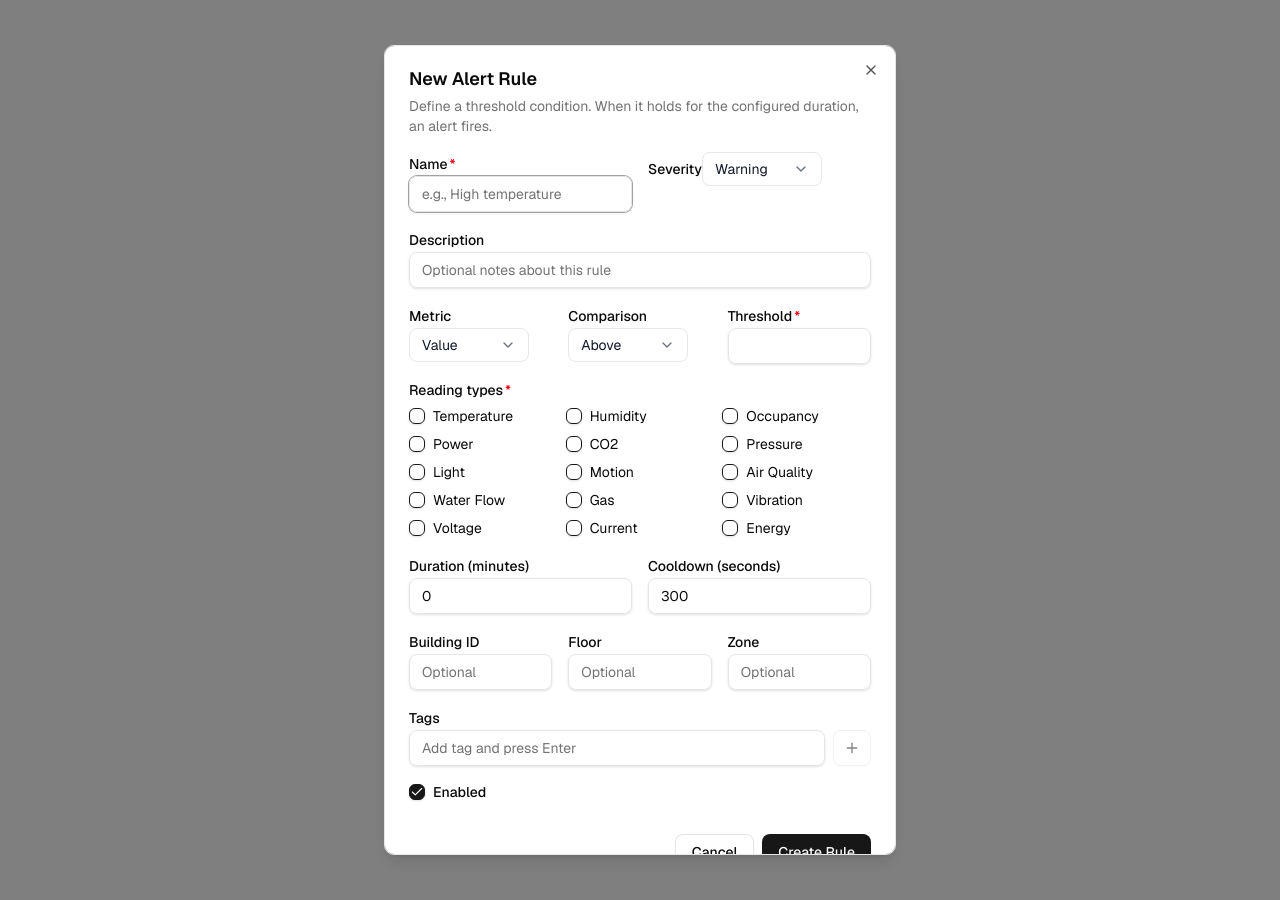
Scenario: CreateAlertRuleModal › should reject an anomaly_score threshold above 1
In the field labelled "Name*": {"x": 520, "y": 194} [409, 176, 632, 212], type "Bad anomaly rule"
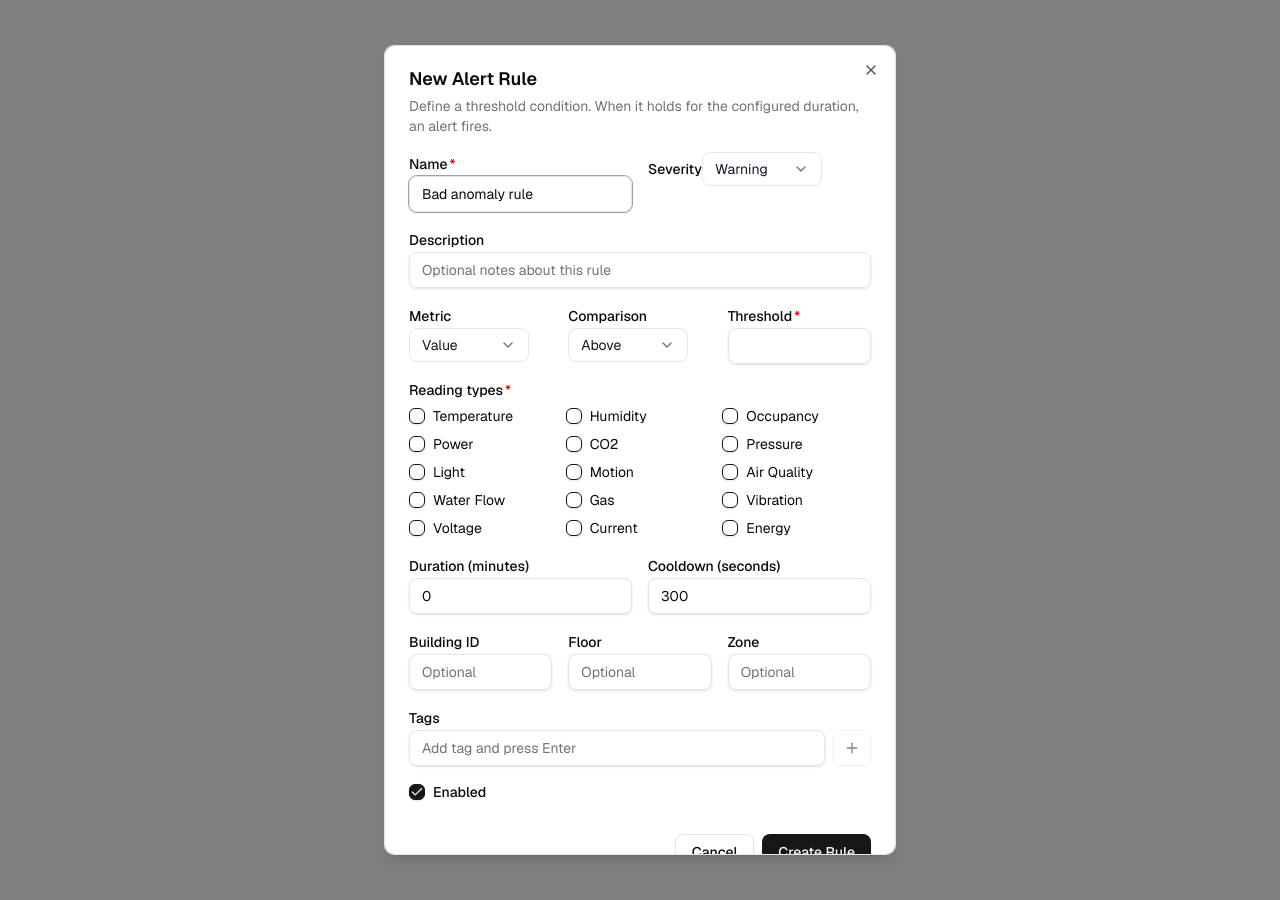
Click the button named "metric": {"x": 469, "y": 345} [409, 328, 529, 362]
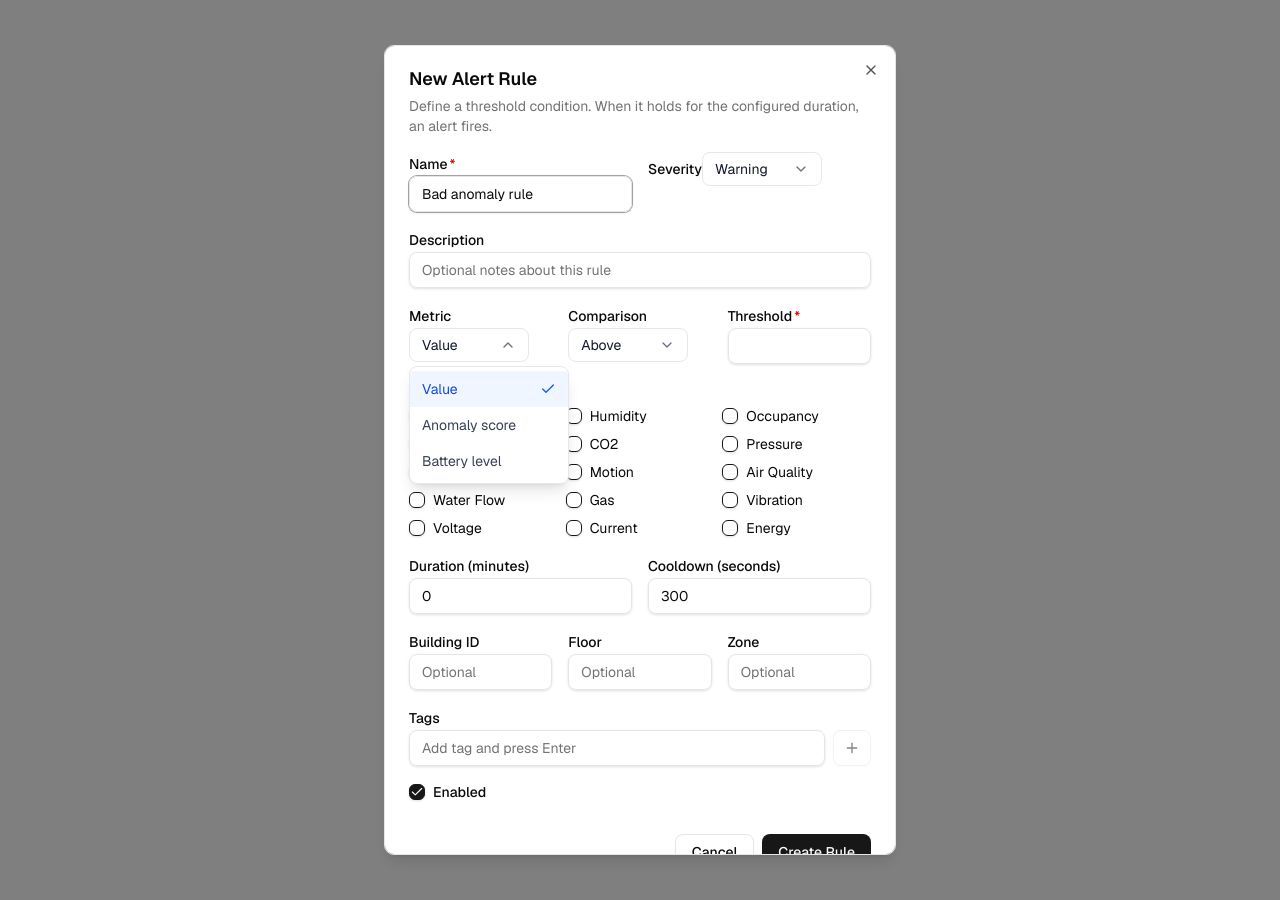
Click the option "Anomaly score": {"x": 489, "y": 425} [410, 407, 568, 443]
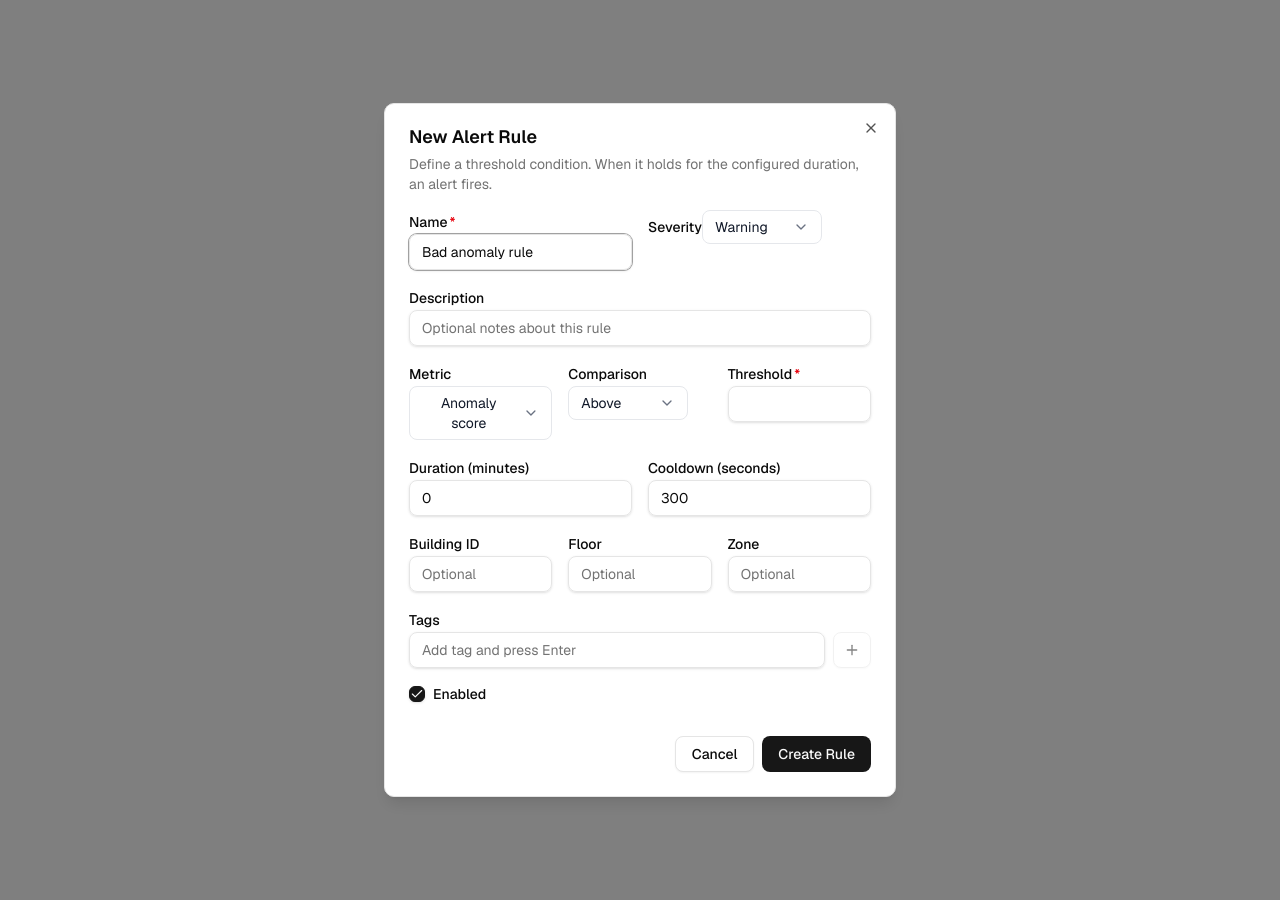
In the number field labelled "Threshold*": {"x": 799, "y": 404} [728, 386, 871, 422], type "30"
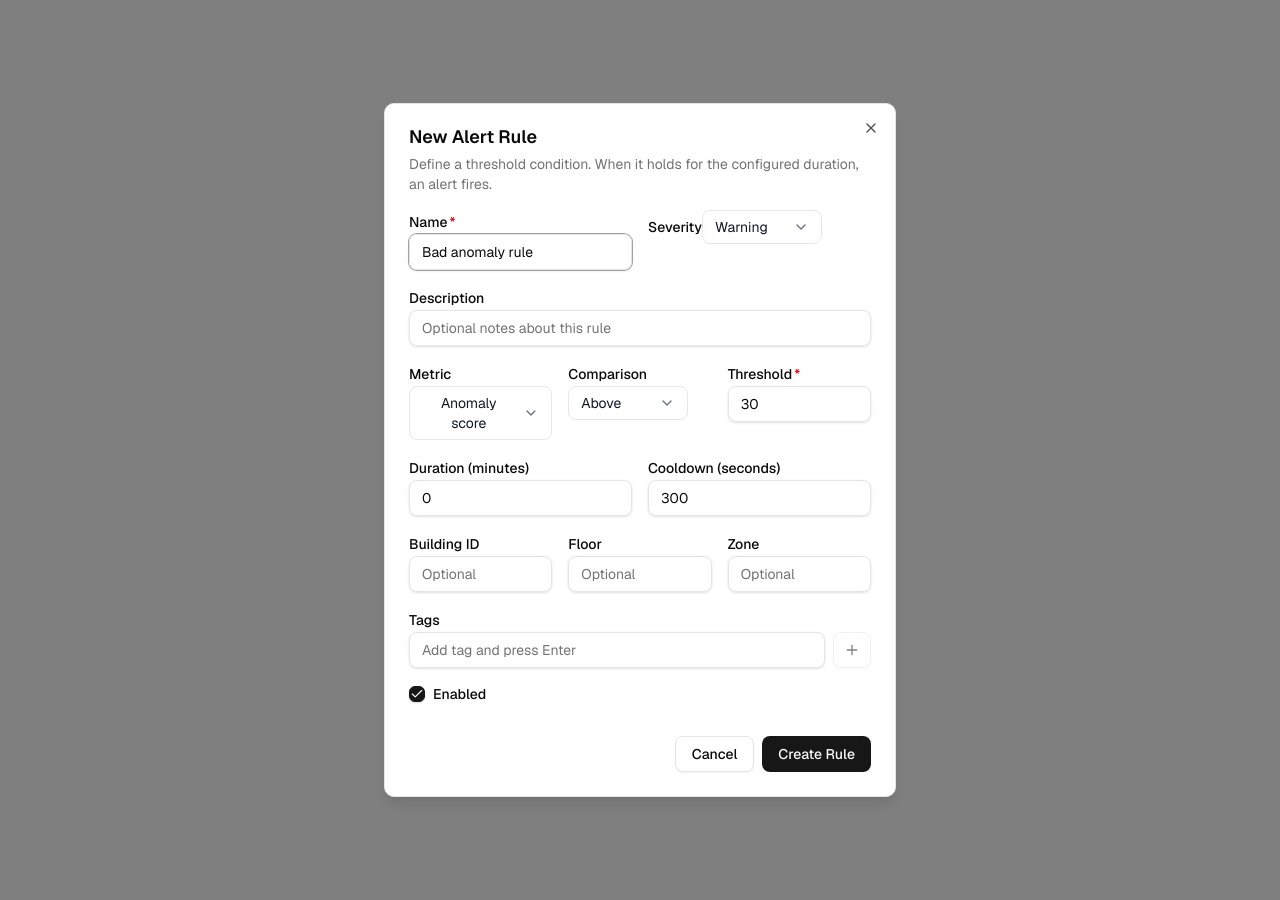
Click the button "Create Rule": {"x": 817, "y": 754} [762, 736, 871, 772]
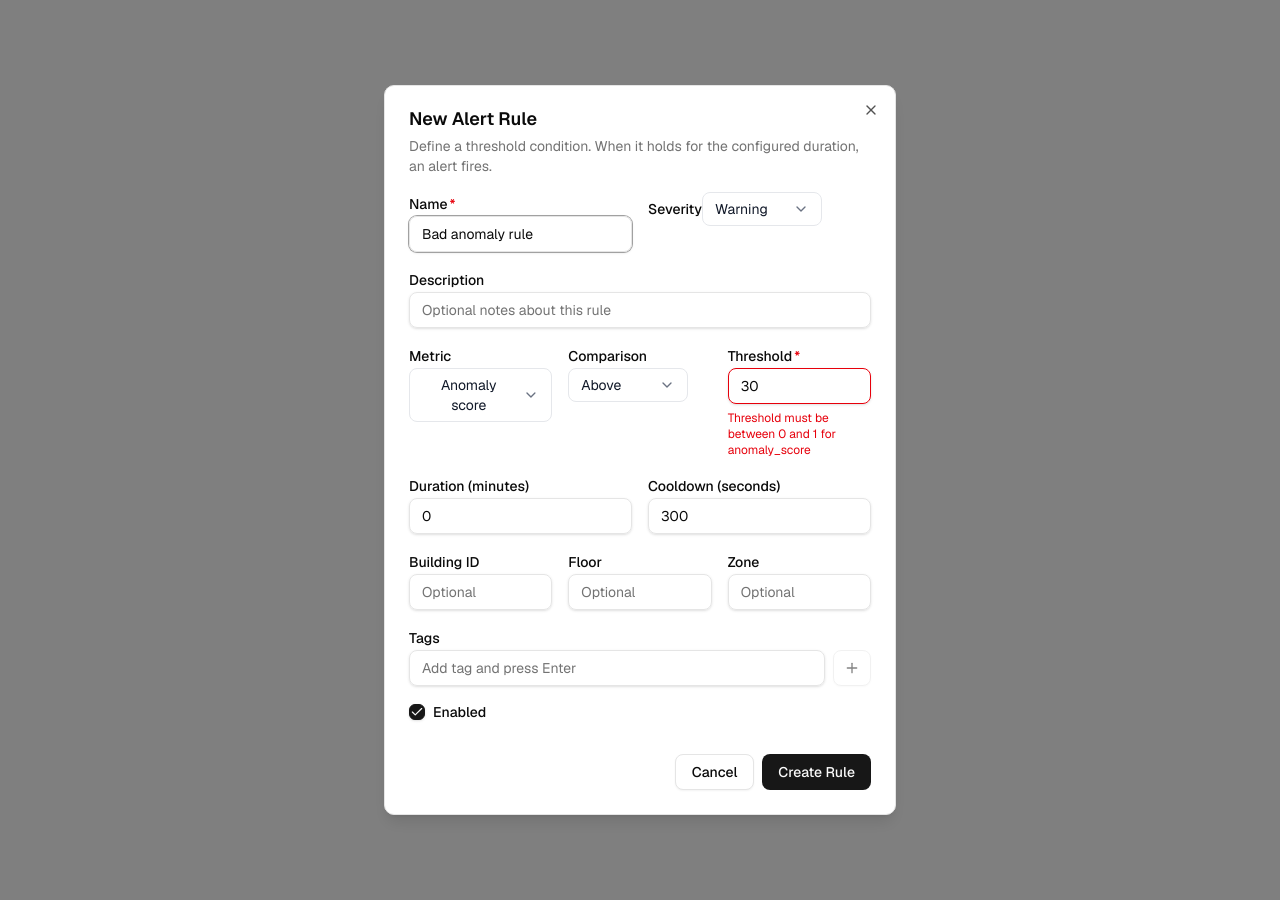
Check: the text "Threshold must be between 0 and 1 for anomaly_score" is shown, box [728, 410, 836, 458]
